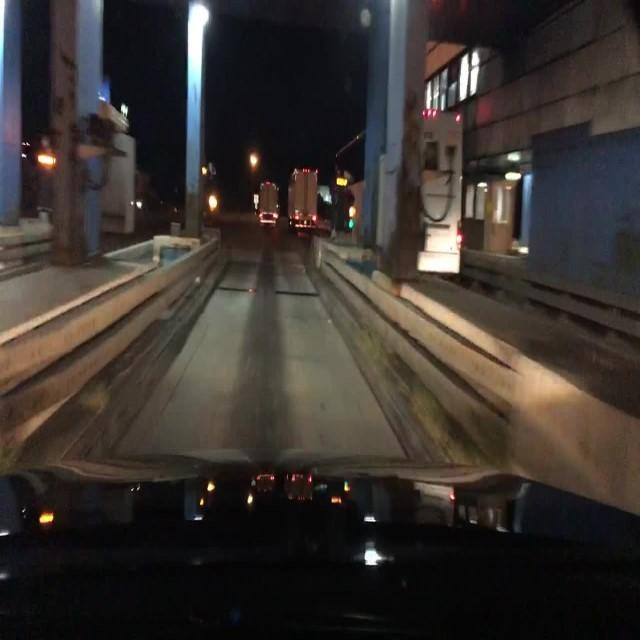normal: (240, 147, 333, 247)
